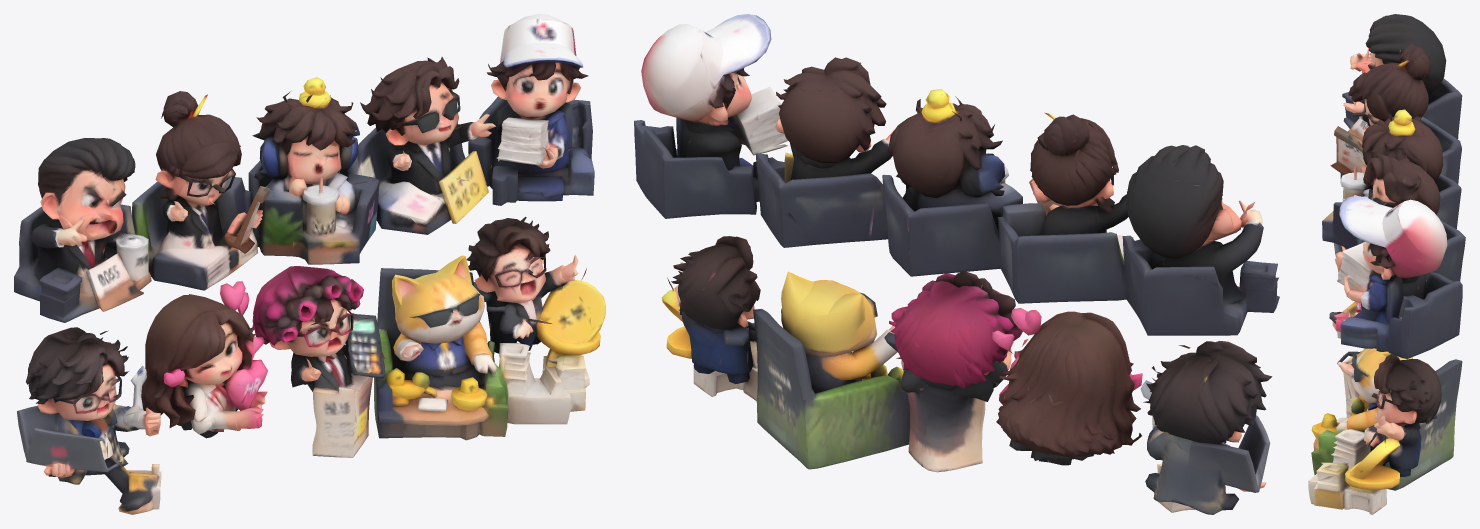
The model's file is it_rescuer.glb.
3 renders of one model, left to right at view 1: azimuth 30°, elevation 25°; view 2: azimuth 150°, elevation 25°; view 3: azimuth 270°, elevation 25°, orthographic. The views are drawn at different scales.
Visible parts, largest first — view 1: model; view 2: model; view 3: model.
Part boxes in pixels (x1,y1,x2,y2): model: (14,14,605,514); model: (634,14,1279,514); model: (1308,14,1465,514).
Size of the model in its own units: 1.89 by 1.17 by 0.5187.
1 material, 1 textured.
